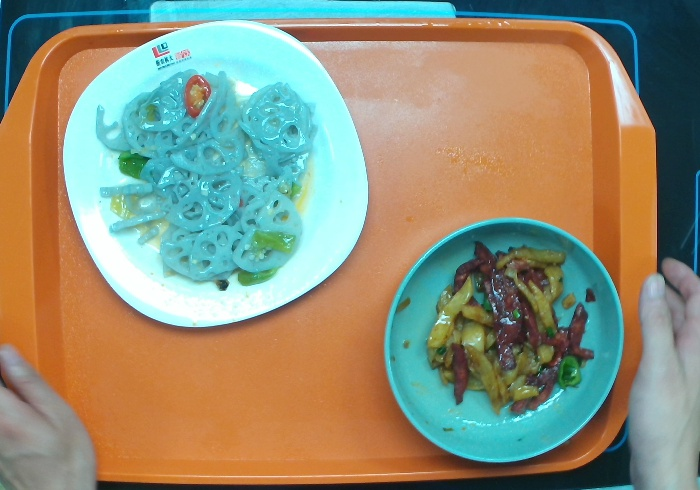ZNLD-Qing_Hua_Yuan_Wan: (382, 212, 627, 463)
ZNLD-Yuan_Jiao_Pan: (58, 15, 371, 330)
